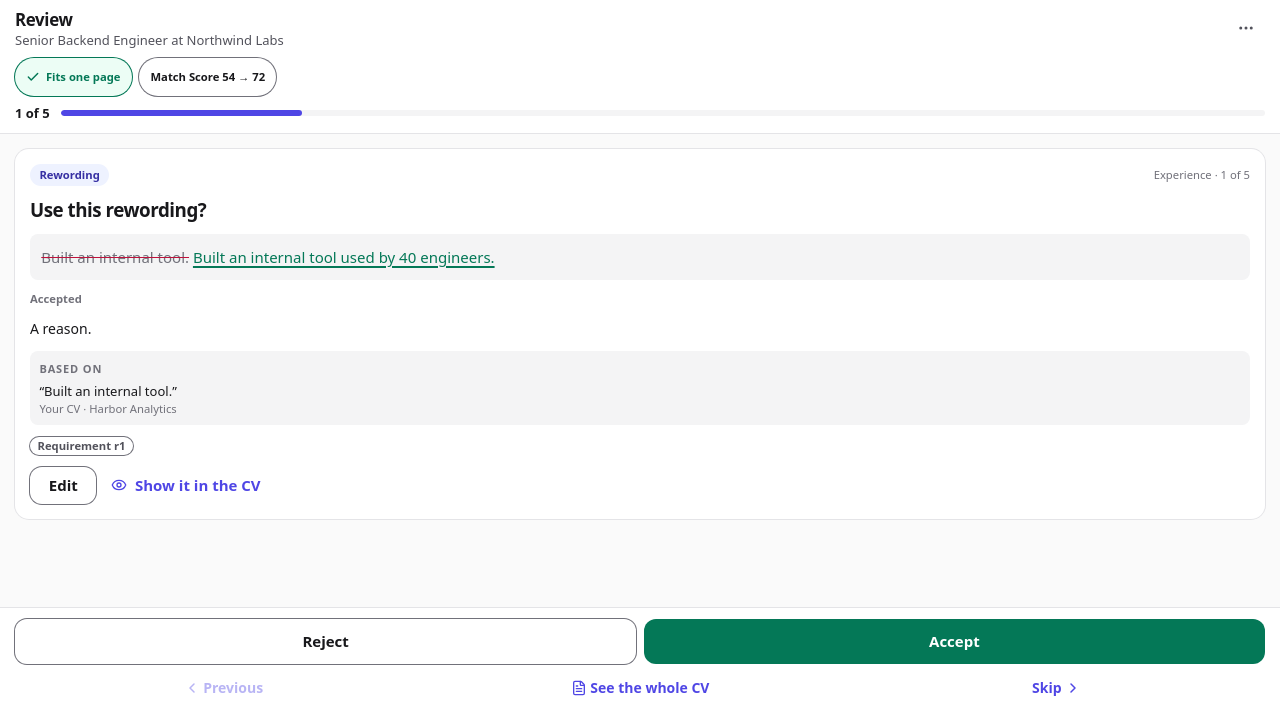
Test: Review focus mode at 390px › labels the decision buttons Keep it / Remove on a removal
What coordinates should you click on to do the following:
click the button "Skip"
I would click on:
 (1057, 688)
Its box is x1=848 y1=668 x2=1265 y2=709.
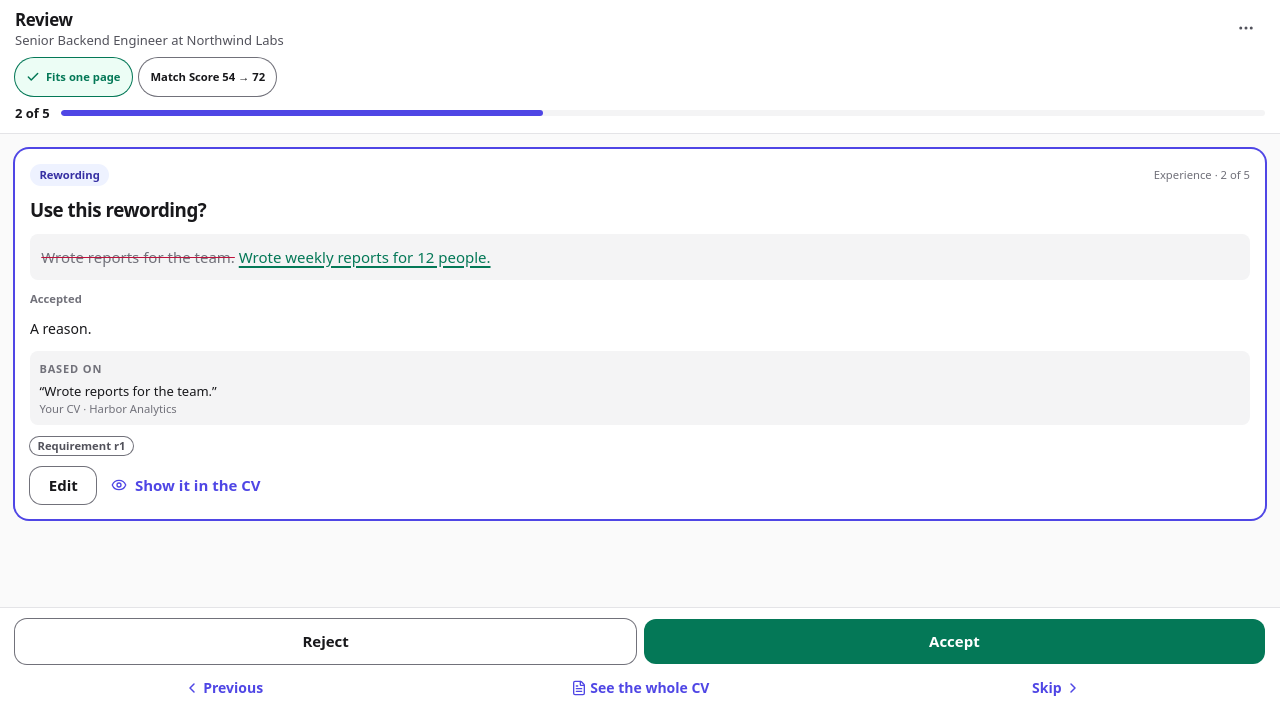
What coordinates should you click on to do the following:
click the button "Skip"
I would click on:
 (1057, 688)
Its box is x1=848 y1=668 x2=1265 y2=709.
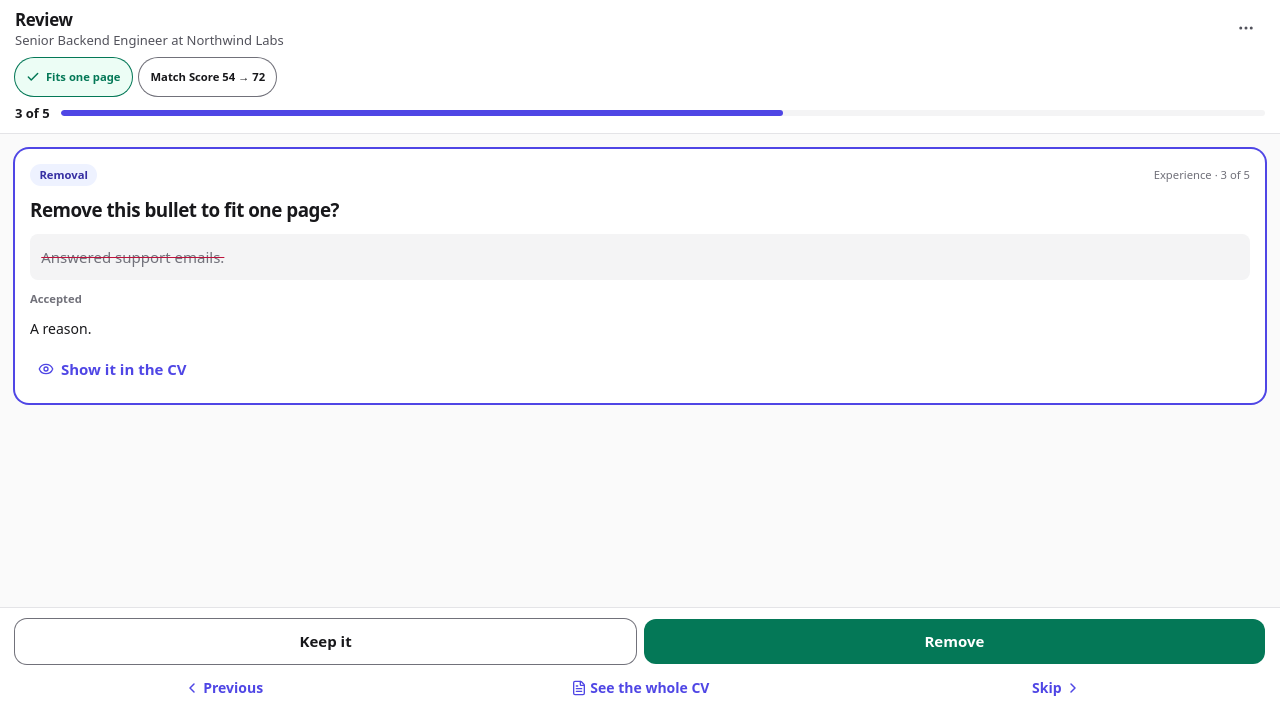
Expected: the button "Keep it" is shown, x1=15 y1=619 x2=636 y2=664
Expected: the button "Remove" is shown, x1=644 y1=619 x2=1265 y2=664
Expected: the button "Edit" is gone
